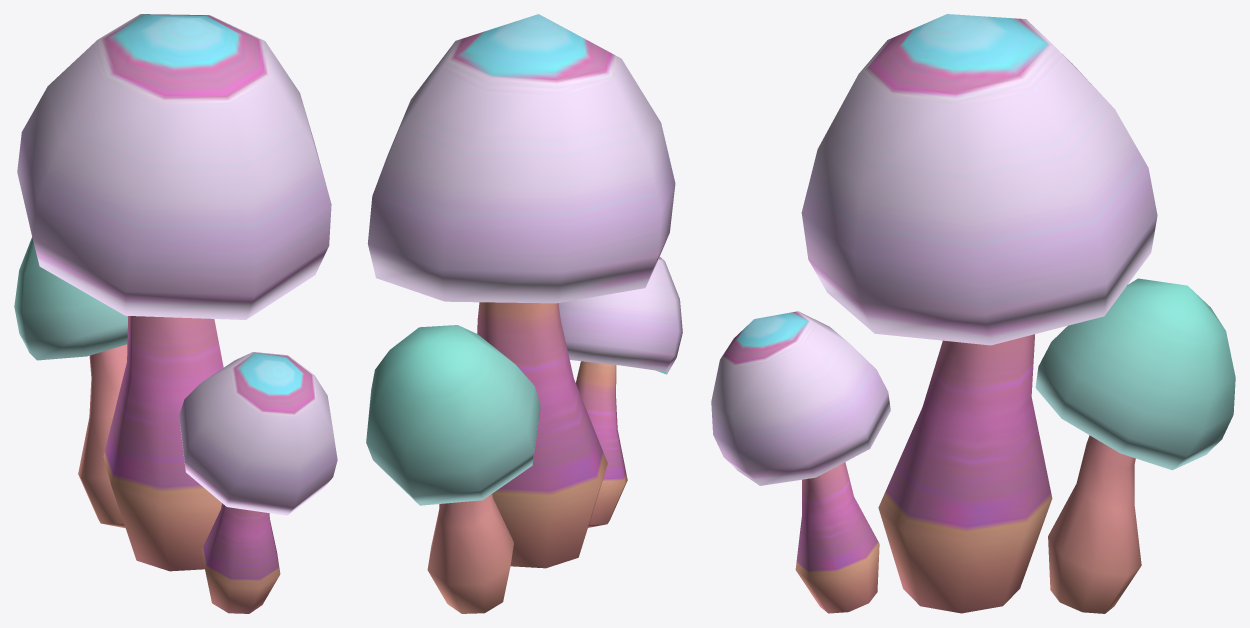
File: grande_peque04.fbx
3 renders of one model, left to right at view 1: azimuth 30°, elevation 25°; view 2: azimuth 150°, elevation 25°; view 3: azimuth 270°, elevation 25°, orthographic. The views are drawn at different scales.
Parts seen in each view (by area): view 1: SetaXS04, SetaXS04a, SetaXS04b; view 2: SetaXS04, SetaXS04b, SetaXS04a; view 3: SetaXS04, SetaXS04b, SetaXS04a.
Boxes of the visible parts, x1,y1,x2,y2 form: SetaXS04: [17, 14, 331, 571]; SetaXS04a: [179, 352, 337, 613]; SetaXS04b: [14, 237, 127, 528]; SetaXS04: [367, 14, 675, 568]; SetaXS04b: [366, 325, 540, 613]; SetaXS04a: [558, 257, 682, 527]; SetaXS04: [801, 14, 1157, 613]; SetaXS04b: [1035, 278, 1235, 613]; SetaXS04a: [711, 311, 890, 613].
Size of the model in its own units: 385 by 729 by 581.
2 materials, 2 textured.
